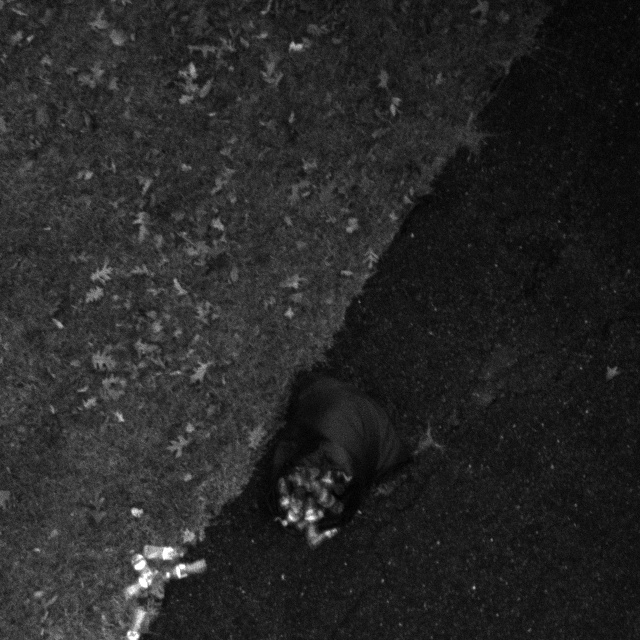bottle: (121, 568, 160, 601), (161, 559, 209, 585), (138, 543, 187, 568), (301, 498, 327, 544), (279, 499, 313, 529), (302, 527, 341, 550)
